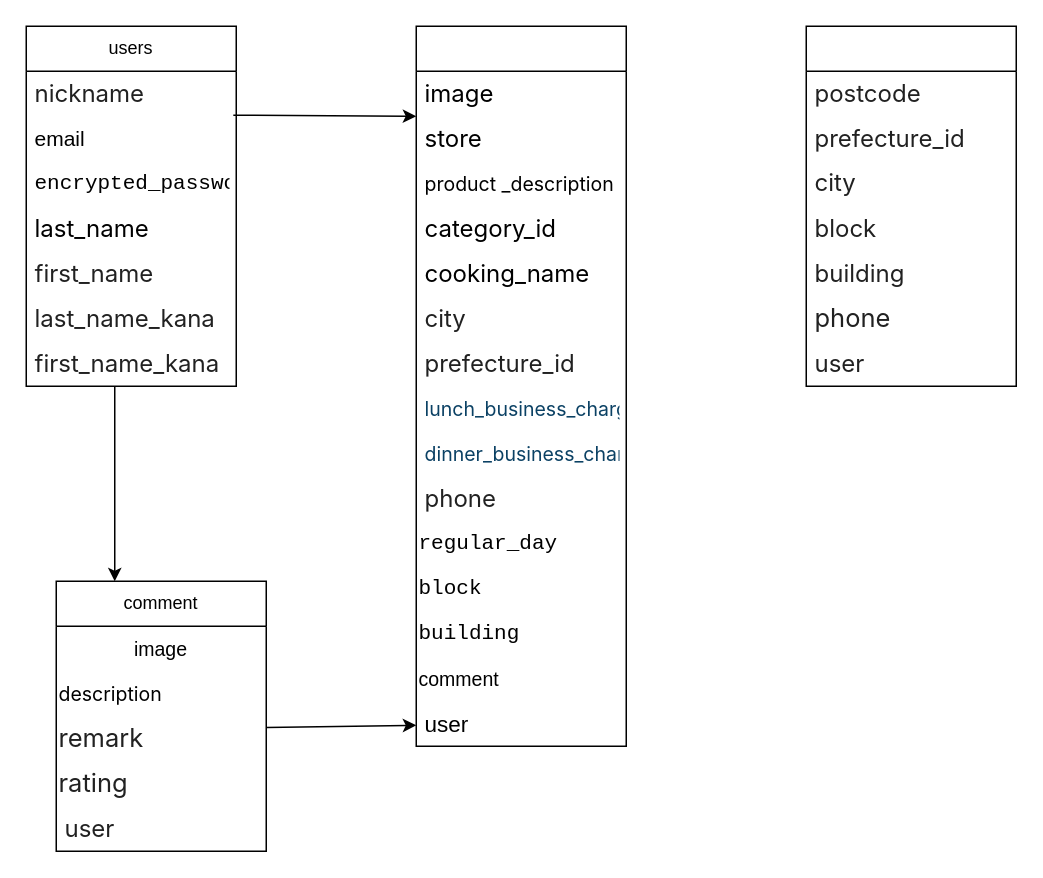
This 1043x878 diagram has some shape labels left out. The box of each missing label's shape, as (x1, y1, x2, y2) in pixels:
stores: (415, 25, 626, 746)
予定表: (805, 25, 1016, 386)
